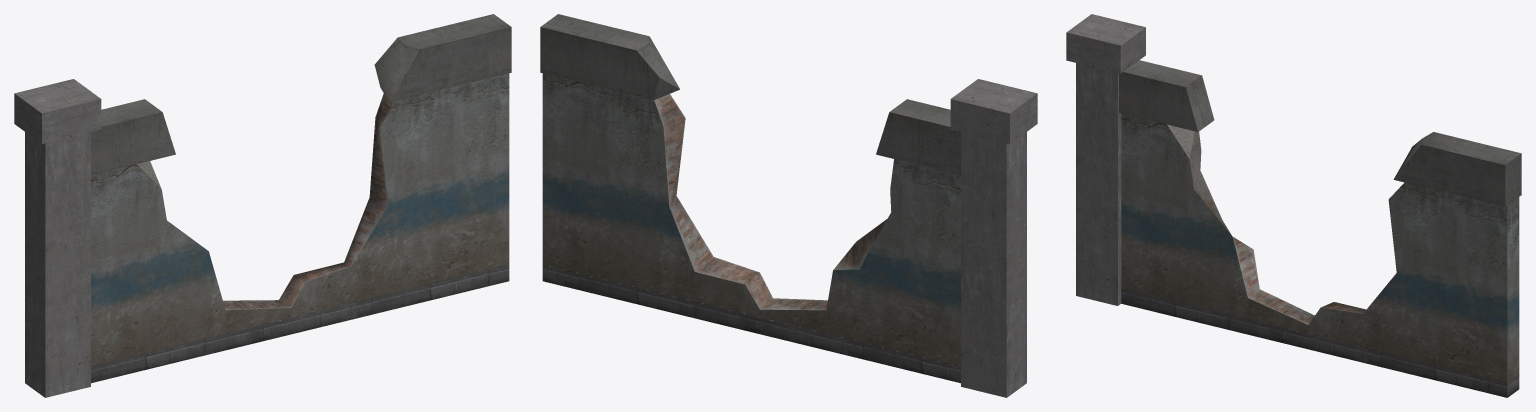
Rendered from Cover_WallA1.glb.
The picture shows the model from 3 angles, left to right: view 1: azimuth 30°, elevation 25°; view 2: azimuth 150°, elevation 25°; view 3: azimuth 330°, elevation 25°; orthographic projection. The views are drawn at different scales.
Parts seen in each view (by area): view 1: xiutz_wall_a1; view 2: xiutz_wall_a1; view 3: xiutz_wall_a1.
Boxes of the visible parts, x1,y1,x2,y2 form: xiutz_wall_a1: (14, 14, 511, 397); xiutz_wall_a1: (540, 14, 1037, 397); xiutz_wall_a1: (1066, 14, 1521, 397).
Size of the model in its own units: 5.06 by 2.94 by 0.5101.
Materials: 1 (1 with a texture image).
